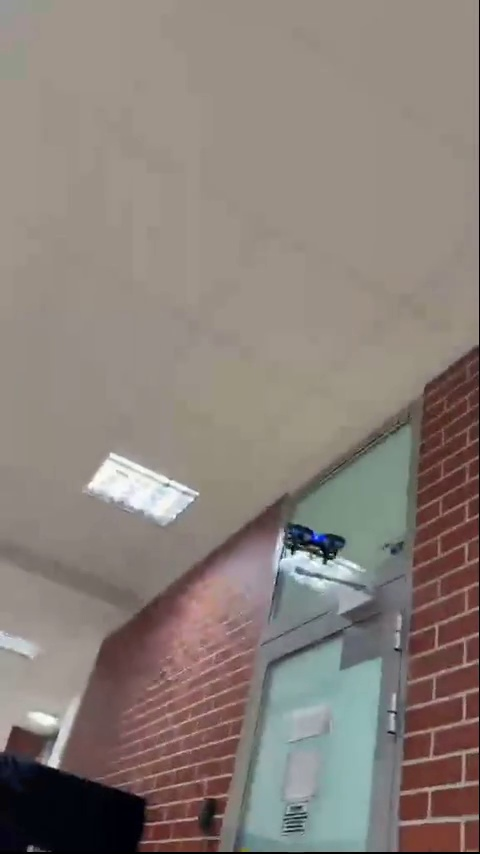drone: (280, 523, 343, 562)
